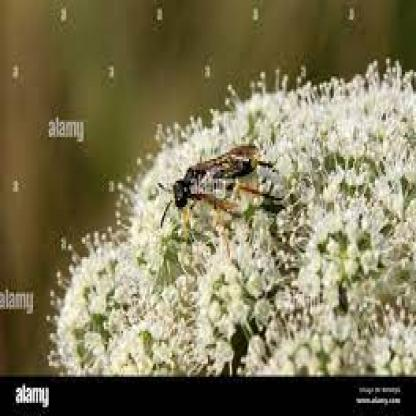sawfly: (157, 139, 281, 238)
